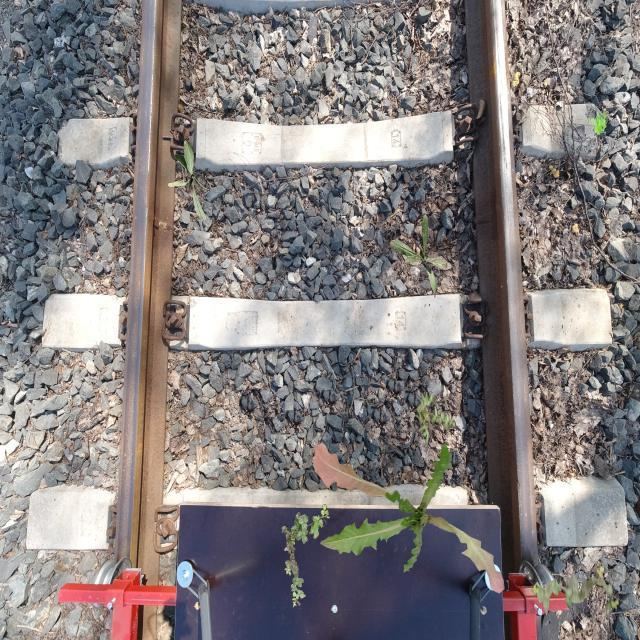Plant: (312, 442, 504, 594), (389, 214, 453, 298), (282, 504, 330, 608), (532, 565, 618, 616), (168, 139, 208, 222), (415, 391, 457, 445), (587, 110, 608, 135)
